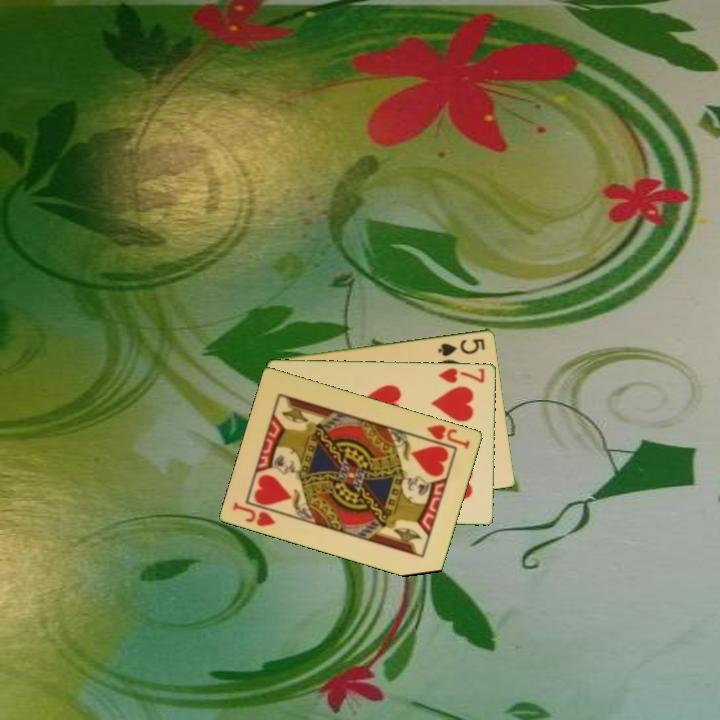5s: (434, 335, 488, 359)
7h: (435, 364, 488, 386)
Jh: (417, 421, 473, 452), (229, 498, 279, 529)
